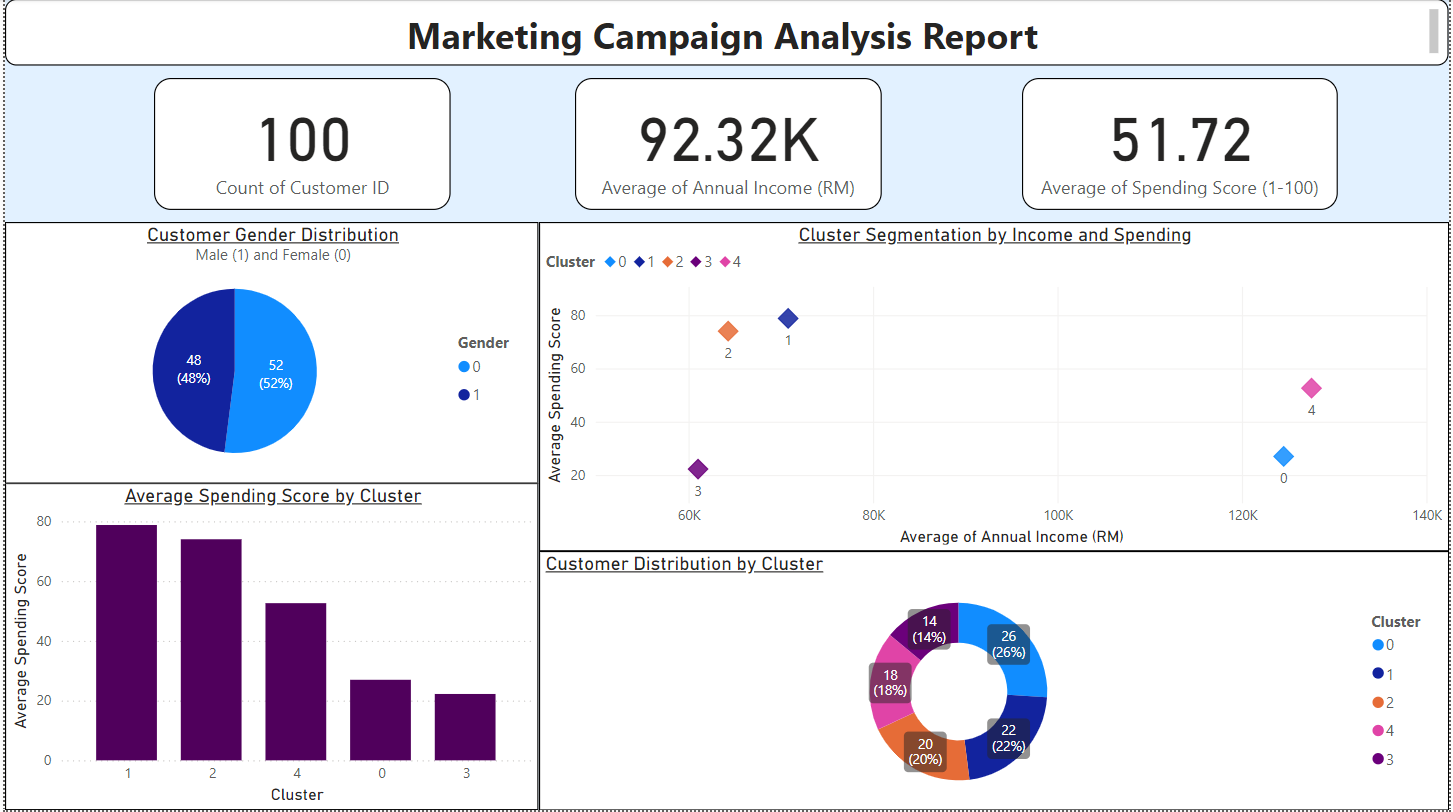

The page's visual inventory and layout, read from the dashboard file:
{"tool":"powerbi","page":{"name":"Dashboard","canvas":[1280,720],"ordinal":0},"visuals":[{"type":"scatterChart","title":"Cluster Segmentation by Income and Spending","fields":{"X":["Avg(exported_dataset.Annual Income (RM))"],"Y":["Avg(exported_dataset.Spending Score (1-100))"],"Series":["exported_dataset.Cluster"]},"box":[473.4,197.6,806.9,292.3],"z":0},{"type":"clusteredColumnChart","title":"Average Spending Score by Cluster","fields":{"Category":["exported_dataset.Cluster"],"Y":["Avg(exported_dataset.Spending Score (1-100))"]},"box":[0,429.5,473.4,290.9],"z":1000},{"type":"donutChart","title":"Customer Distribution by Cluster","fields":{"Y":["CountNonNull(exported_dataset.Customer ID)"],"Category":["exported_dataset.Cluster"]},"box":[473.4,489.9,806.9,230.5],"z":2000},{"type":"card","fields":{"Values":["CountNonNull(exported_dataset.Customer ID)"]},"box":[131.7,70,263.5,116.6],"z":3000},{"type":"card","fields":{"Values":["Avg(exported_dataset.Annual Income (RM))"]},"box":[505,70,271.7,116.6],"z":4000},{"type":"card","fields":{"Values":["Avg(exported_dataset.Spending Score (1-100))"]},"box":[901.5,70,279.9,116.6],"z":5000},{"type":"textbox","box":[0,0,1280.3,59],"z":6000},{"type":"pieChart","title":"Customer Gender Distribution","fields":{"Category":["exported_dataset.Gender"],"Y":["CountNonNull(exported_dataset.Customer ID)"]},"box":[0,197.6,473.4,231.9],"z":7000}]}

Visuals, with their boxes in screenshot pixels (x1, y1, x2, y2), scaled from the page's 1280x720 canvas onto the 1453x812 screenshot:
"Cluster Segmentation by Income and Spending" scatterChart: bbox=[537, 223, 1452, 552]
"Average Spending Score by Cluster" clusteredColumnChart: bbox=[0, 484, 537, 811]
"Customer Distribution by Cluster" donutChart: bbox=[537, 552, 1452, 811]
card - CountNonNull(exported_dataset.Customer ID): bbox=[150, 79, 449, 210]
card - Avg(exported_dataset.Annual Income (RM)): bbox=[573, 79, 882, 210]
card - Avg(exported_dataset.Spending Score (1-100)): bbox=[1023, 79, 1341, 210]
textbox: bbox=[0, 0, 1452, 67]
"Customer Gender Distribution" pieChart: bbox=[0, 223, 537, 484]
